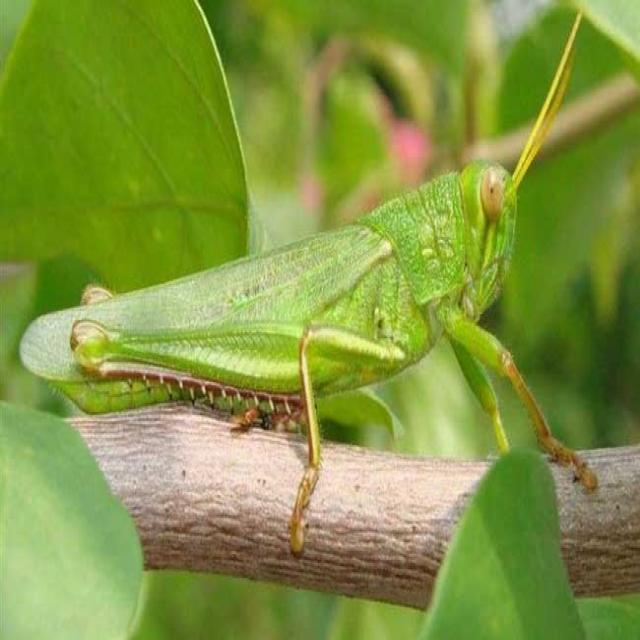ZhaMeng: (19, 118, 571, 485)
